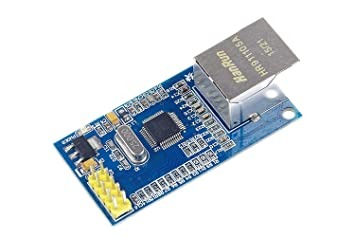Ethernet-W5500: (34, 9, 317, 235)
